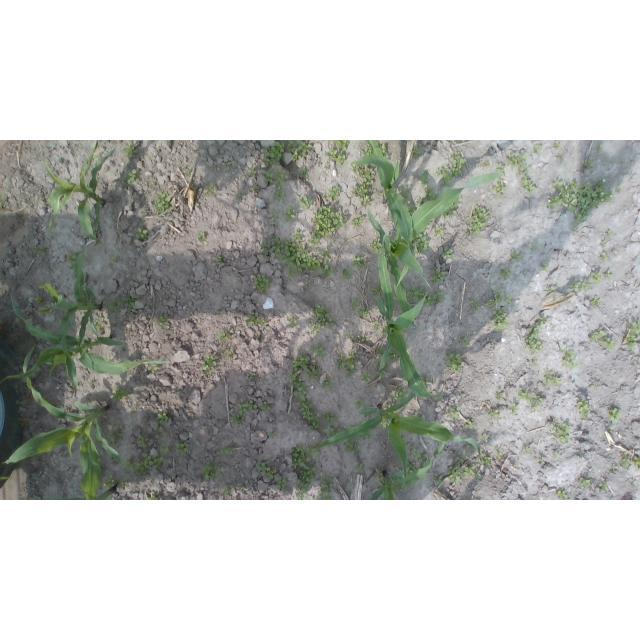Maize: (4, 343, 130, 500), (315, 386, 482, 491), (1, 289, 168, 382), (368, 189, 463, 330), (374, 234, 447, 402), (37, 239, 102, 397), (353, 141, 416, 288), (43, 140, 113, 246), (369, 441, 448, 500), (40, 484, 120, 501)
Weeds: (261, 229, 336, 279), (547, 179, 613, 226), (288, 353, 321, 432), (309, 206, 348, 247), (264, 142, 288, 203), (291, 447, 317, 500), (508, 150, 536, 194), (124, 453, 165, 478), (436, 152, 467, 185), (353, 164, 376, 205), (404, 286, 444, 307), (525, 315, 547, 353), (449, 453, 476, 482), (517, 388, 546, 413), (324, 140, 348, 169), (467, 205, 489, 236), (229, 400, 257, 424), (312, 303, 336, 328), (589, 327, 616, 349), (287, 140, 313, 162), (257, 460, 280, 482), (335, 353, 359, 373), (626, 316, 640, 350), (154, 191, 173, 214), (608, 407, 626, 431), (318, 476, 335, 501), (201, 463, 222, 483), (447, 351, 466, 373), (551, 420, 569, 442), (65, 250, 87, 268), (410, 234, 430, 253), (107, 427, 127, 446), (560, 349, 578, 370), (414, 447, 432, 468), (491, 310, 509, 331), (254, 275, 273, 294), (490, 178, 507, 199), (568, 279, 592, 293), (247, 313, 269, 328), (543, 372, 563, 388), (111, 387, 133, 401), (622, 452, 640, 469), (122, 140, 139, 158), (485, 291, 503, 308), (202, 356, 218, 375), (296, 194, 313, 211), (443, 202, 460, 219), (120, 169, 136, 187), (576, 398, 590, 418), (431, 268, 447, 284), (395, 185, 409, 203), (476, 452, 492, 467), (322, 427, 343, 438), (283, 207, 298, 222), (175, 442, 190, 457), (352, 255, 368, 269), (423, 187, 439, 201), (321, 411, 337, 425), (274, 476, 288, 492), (391, 387, 408, 400), (375, 467, 385, 488), (108, 299, 122, 314), (204, 182, 219, 196), (353, 213, 368, 227), (445, 405, 461, 418), (418, 170, 430, 187), (346, 441, 361, 454), (147, 491, 168, 500), (328, 187, 341, 201), (359, 144, 373, 157), (311, 345, 325, 358), (370, 238, 382, 253), (323, 380, 338, 392), (157, 408, 168, 424), (124, 296, 137, 309), (92, 317, 104, 331), (589, 272, 601, 285), (590, 296, 603, 308), (340, 267, 352, 280), (103, 475, 115, 488), (136, 435, 148, 448), (407, 459, 418, 473), (361, 369, 372, 383), (559, 156, 568, 173), (380, 144, 389, 161), (134, 227, 146, 239), (442, 248, 453, 261), (261, 401, 274, 412), (220, 446, 233, 457), (310, 320, 320, 334), (533, 143, 544, 155), (500, 268, 511, 280), (107, 255, 119, 266), (298, 167, 309, 179), (119, 479, 130, 491), (220, 347, 233, 357), (407, 204, 417, 217), (556, 490, 568, 500), (269, 209, 279, 221), (469, 299, 479, 311), (419, 376, 429, 388), (488, 409, 500, 419), (159, 442, 169, 454), (477, 160, 490, 169), (148, 364, 161, 373), (543, 285, 557, 293), (31, 246, 47, 253), (355, 335, 369, 343), (411, 147, 421, 158), (496, 163, 506, 174), (224, 484, 234, 495), (464, 421, 476, 430), (511, 250, 521, 260), (599, 483, 609, 493), (580, 478, 590, 488), (459, 335, 469, 345), (359, 307, 369, 317), (433, 476, 444, 485), (370, 287, 381, 296), (356, 463, 365, 474), (290, 316, 298, 328), (250, 164, 257, 177), (510, 403, 519, 413), (219, 332, 229, 341), (183, 167, 193, 176), (198, 231, 207, 241), (434, 228, 444, 237), (376, 370, 385, 380), (583, 160, 594, 168), (496, 388, 503, 400), (250, 184, 259, 193), (34, 296, 43, 305), (392, 352, 401, 361), (376, 348, 385, 357), (356, 400, 365, 409), (604, 229, 614, 237), (600, 252, 608, 262), (222, 160, 232, 168), (383, 404, 394, 411), (480, 434, 489, 442), (351, 300, 359, 309), (372, 321, 380, 330), (237, 483, 245, 492), (554, 140, 561, 150), (497, 451, 504, 461), (250, 374, 260, 381), (158, 316, 168, 323), (524, 446, 532, 454), (216, 256, 223, 265), (267, 431, 277, 437), (610, 464, 618, 471), (537, 455, 544, 463), (506, 295, 513, 303), (344, 373, 352, 380), (597, 144, 604, 152), (542, 263, 548, 272), (589, 385, 599, 390), (217, 311, 224, 318), (416, 200, 423, 207), (87, 298, 93, 306), (604, 272, 612, 278), (553, 452, 559, 460), (475, 472, 481, 479), (615, 187, 622, 193), (49, 304, 54, 312), (0, 196, 4, 206), (579, 451, 585, 457), (601, 240, 607, 246), (131, 405, 137, 411), (58, 317, 64, 323), (88, 381, 93, 388), (46, 197, 51, 204), (472, 446, 477, 451), (532, 360, 537, 365), (376, 142, 380, 147), (460, 140, 464, 142)
